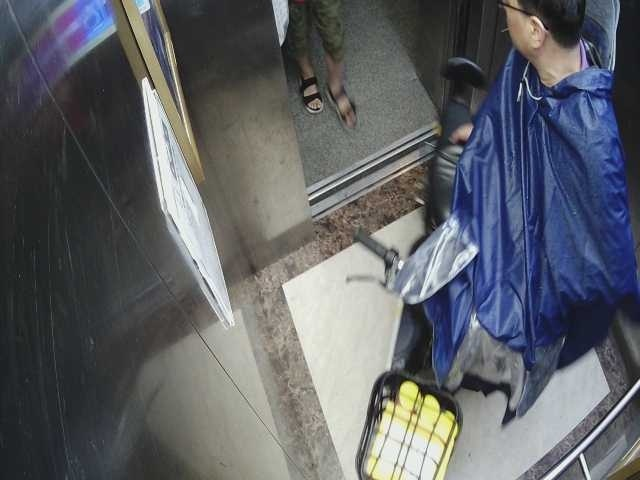emotor: (332, 60, 509, 480)
